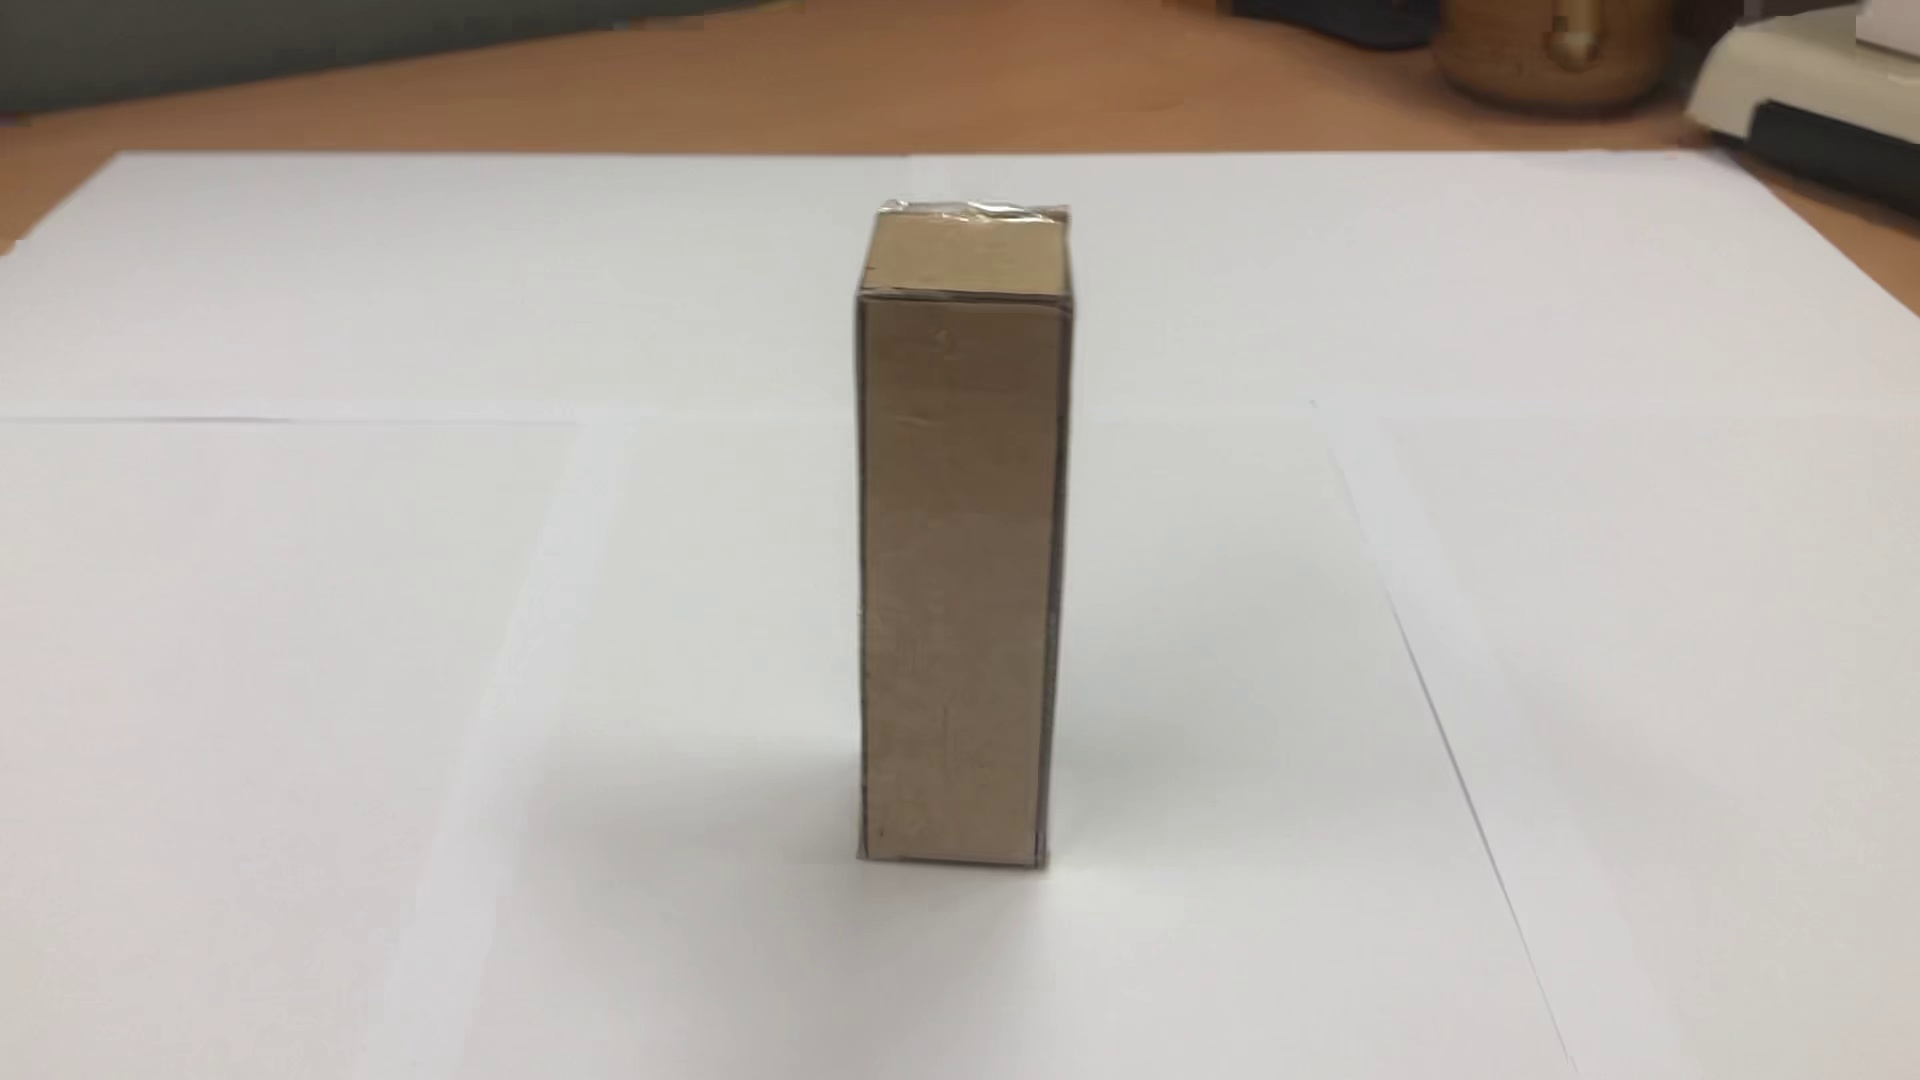box: (837, 173, 1076, 893)
